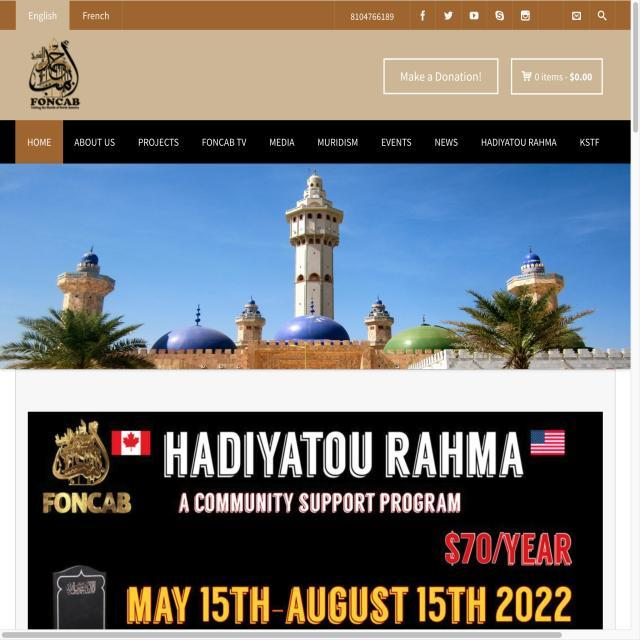button: (382, 56, 500, 97), (508, 55, 606, 97)
image: (6, 168, 611, 370)
navigation bar: (2, 122, 623, 164)
